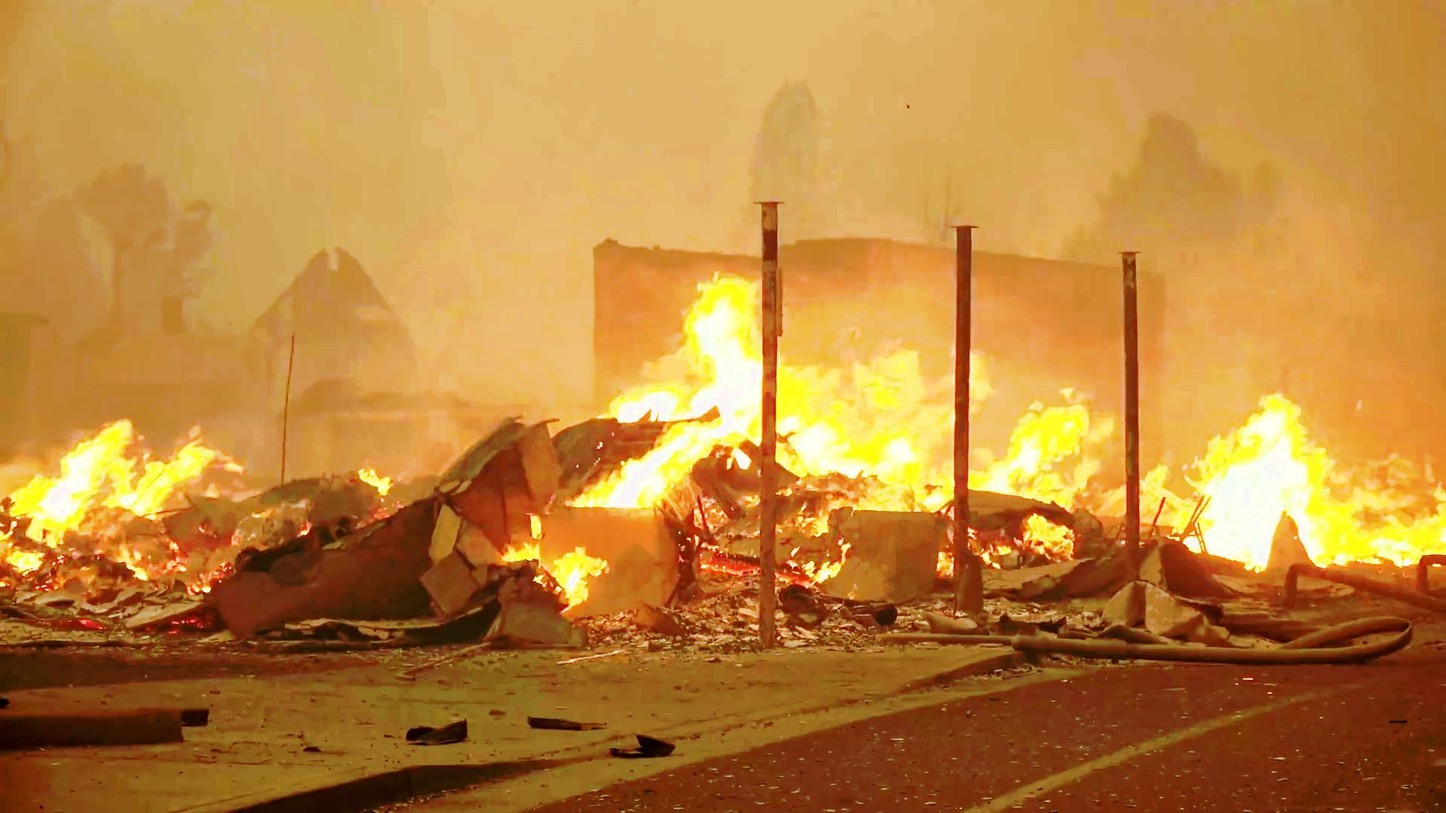fire: (620, 283, 936, 502), (0, 422, 230, 601), (1172, 384, 1377, 566), (962, 379, 1134, 526)
